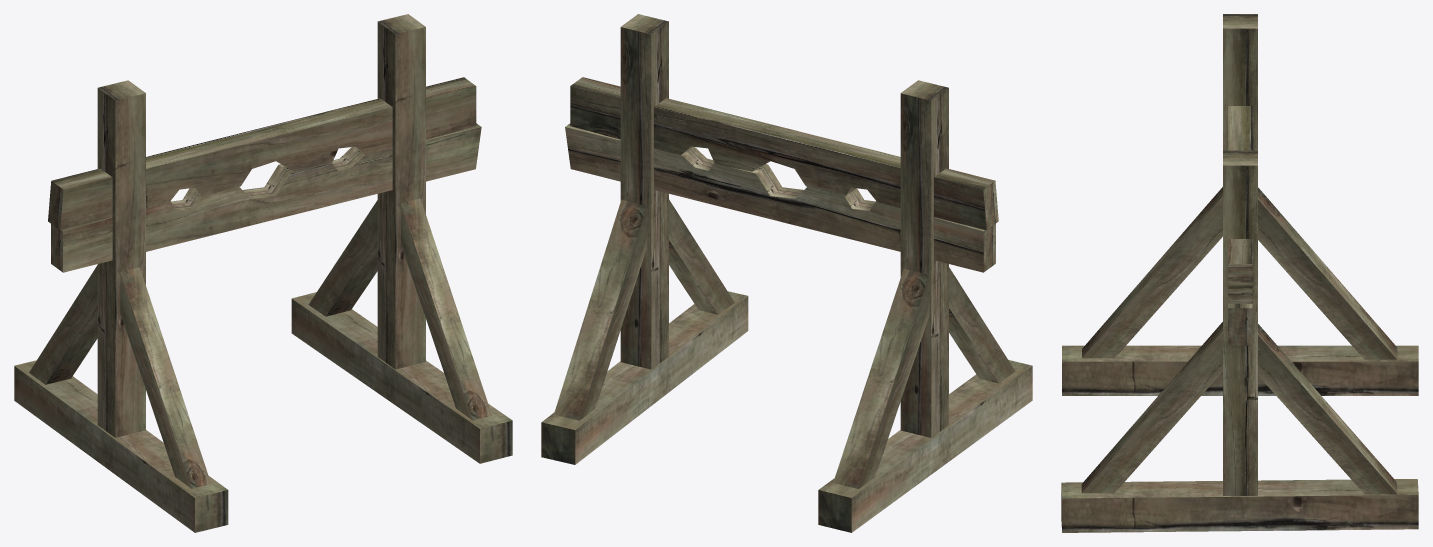
File: pier_stockade.fbx
3 renders of one model, left to right at view 1: azimuth 30°, elevation 25°; view 2: azimuth 150°, elevation 25°; view 3: azimuth 270°, elevation 25°, orthographic.
Visible parts, largest first — view 1: high_stockade, high_stockade_polySurface4, polySurface3, pCube2, pCube3; view 2: high_stockade, high_stockade_polySurface4, polySurface3, pCube3, pCube2; view 3: high_stockade, pCube3, pCube2, high_stockade_polySurface4, polySurface3.
Boxes of the visible parts, x1,y1,x2,y2 form: high_stockade: [14, 198, 512, 532]; high_stockade_polySurface4: [48, 77, 476, 230]; polySurface3: [51, 123, 481, 272]; pCube2: [97, 80, 145, 437]; pCube3: [377, 14, 425, 369]; high_stockade: [541, 199, 1032, 532]; high_stockade_polySurface4: [570, 77, 998, 230]; polySurface3: [565, 123, 995, 272]; pCube3: [620, 14, 668, 369]; pCube2: [900, 80, 948, 437]; high_stockade: [1061, 187, 1418, 532]; pCube3: [1223, 150, 1257, 495]; pCube2: [1223, 14, 1257, 150]; high_stockade_polySurface4: [1228, 106, 1252, 303]; polySurface3: [1228, 303, 1252, 345].
Size of the model in its own units: 683 by 577 by 509.
Materials: 1 (1 with a texture image).
